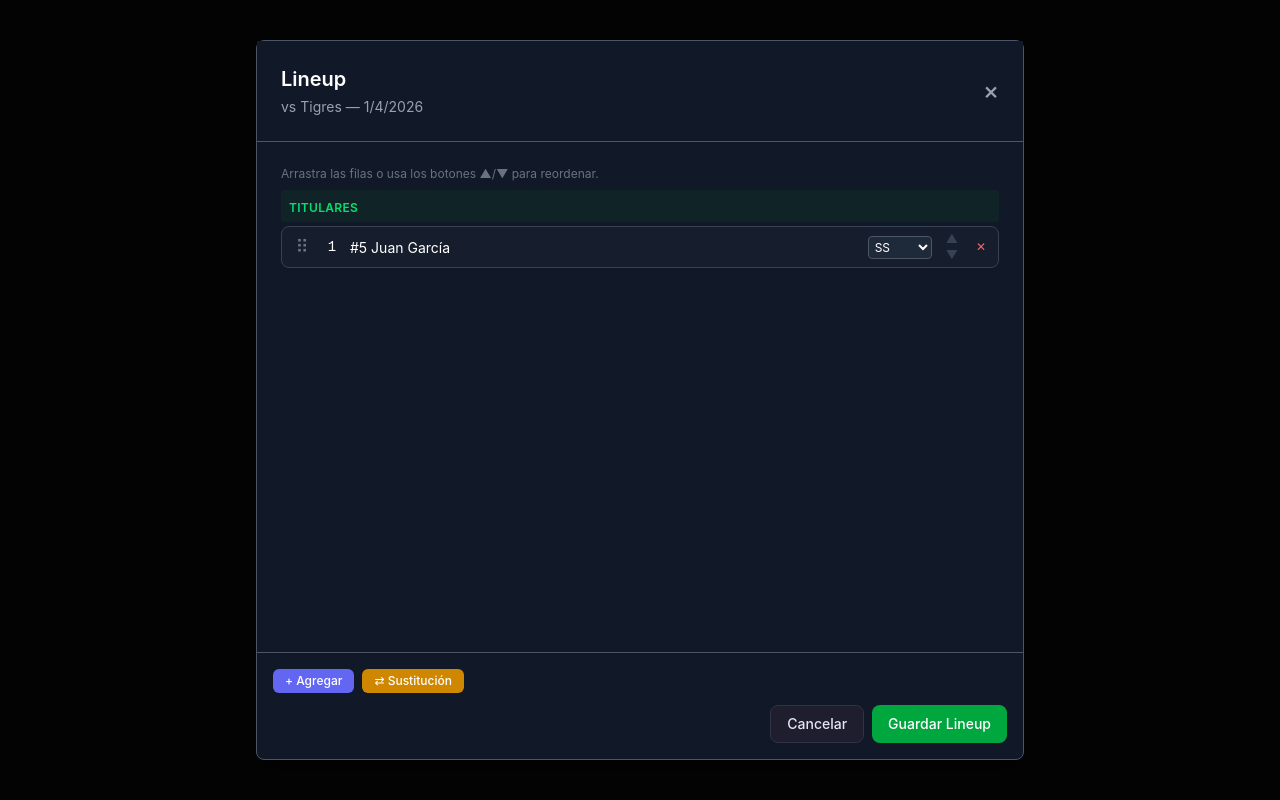
LineupModal — modo edición (partido no finalizado) › eliminar fila quita la fila del lineup
The width and height of the screenshot is (1280, 800).
Expected: the text "#5 Juan García" is shown, [350,239,450,256]
Click the button titled "Quitar jugador" at [981, 247], box [972,239,990,255]
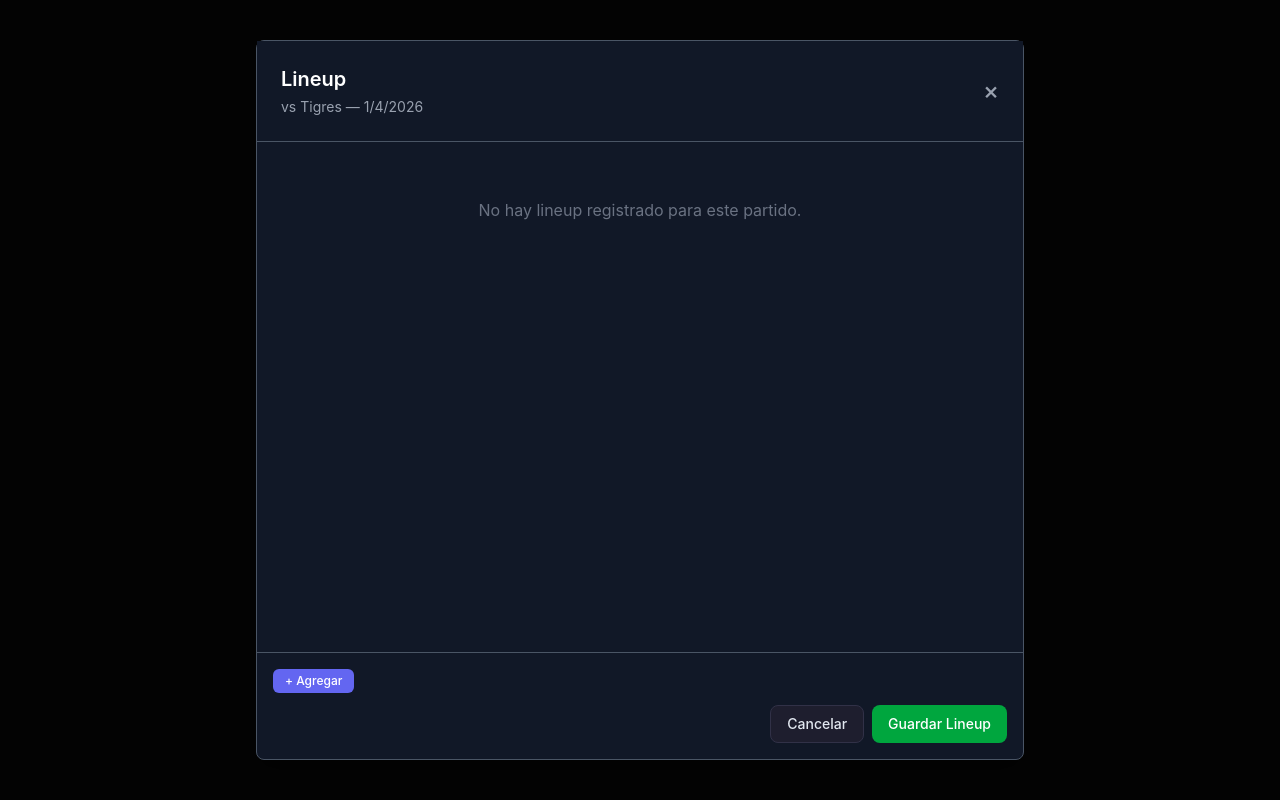
Now the text "Juan García" is gone
